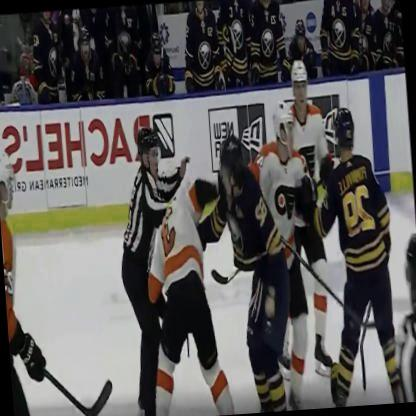non-Voilence: (310, 101, 401, 408)
voilence: (138, 134, 294, 415)
